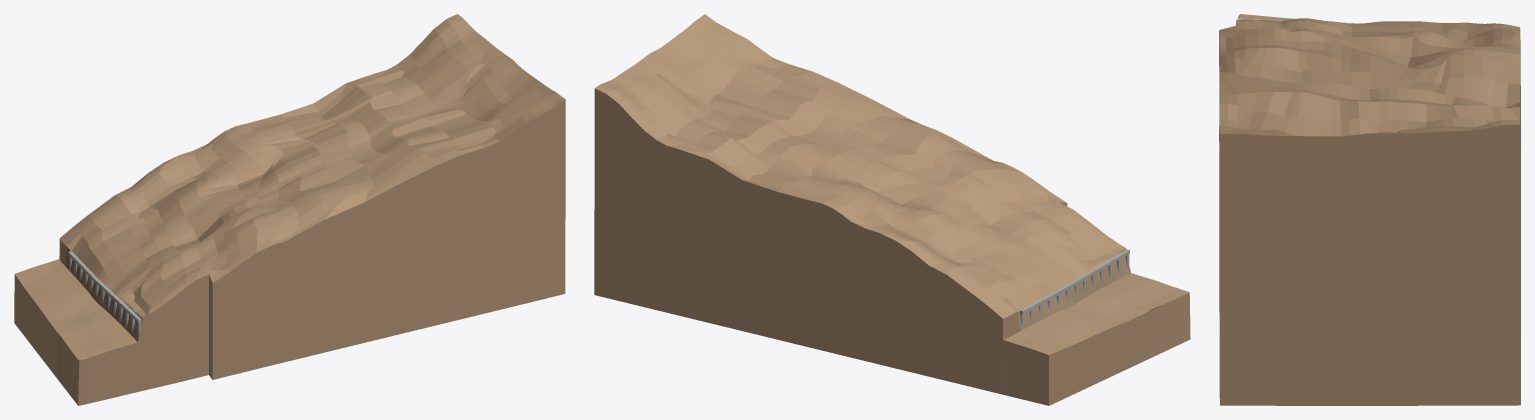
Rendered from ngl.glb.
3 views of the same model, side by side, from view 1: azimuth 30°, elevation 25°; view 2: azimuth 150°, elevation 25°; view 3: azimuth 270°, elevation 25° (orthographic). The views are drawn at different scales.
Parts seen in each view (by area): view 1: Terrain 01 - NGL.003, Cube.200; view 2: Terrain 01 - NGL.003, Cube.200; view 3: Terrain 01 - NGL.003.
Boxes of the visible parts, x1,y1,x2,y2 form: Terrain 01 - NGL.003: [14, 14, 565, 405]; Cube.200: [68, 251, 141, 322]; Terrain 01 - NGL.003: [594, 14, 1190, 405]; Cube.200: [1019, 249, 1129, 314]; Terrain 01 - NGL.003: [1219, 14, 1520, 405].
Bounding box in the file's own units: 45.8 × 18.31 × 17.83.
